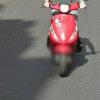Motorcycle: (37, 0, 91, 81)
